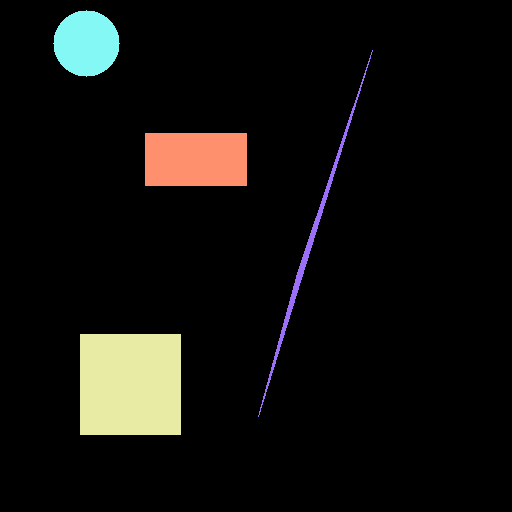circle: (53, 10, 119, 76)
rectangle: (145, 133, 246, 185)
square: (80, 334, 180, 434)
